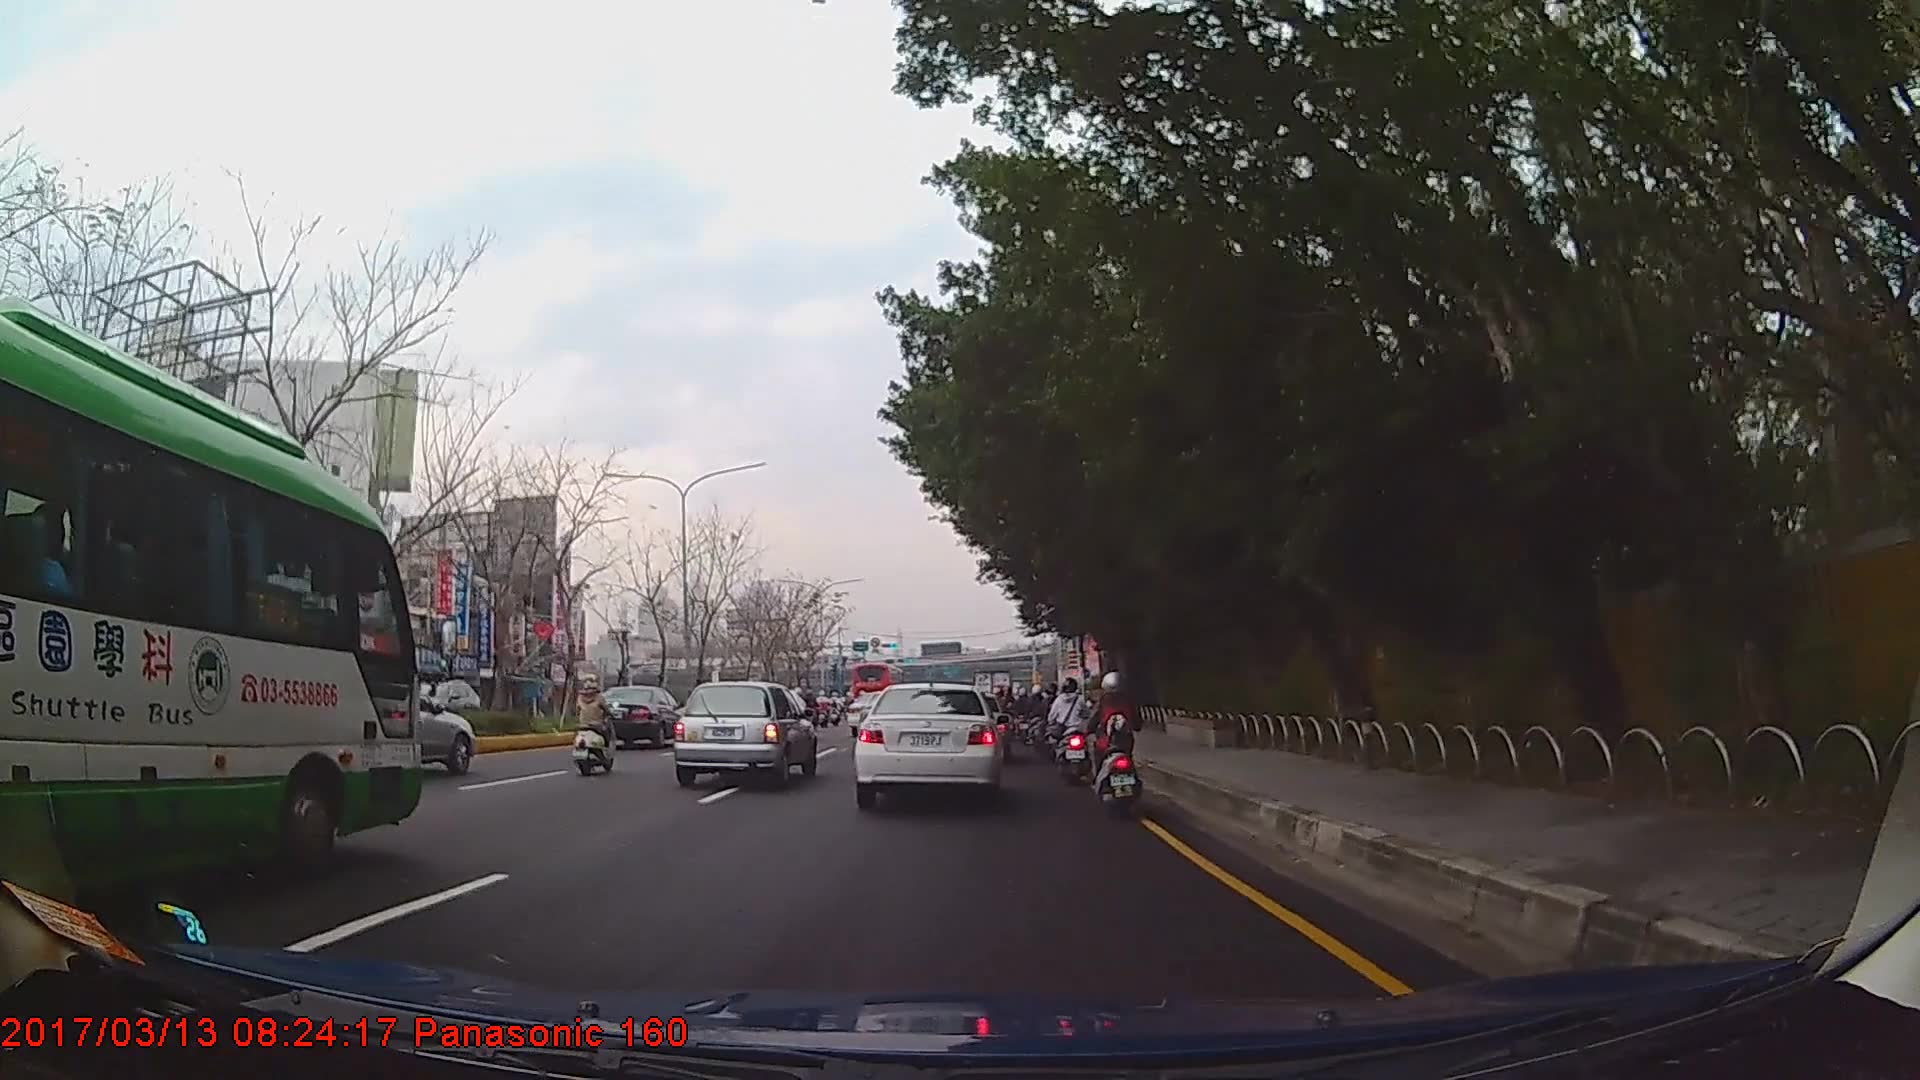rider: (1085, 667, 1148, 818), (1051, 676, 1095, 784), (575, 676, 617, 776), (1041, 683, 1064, 751)
vehicle: (0, 297, 423, 908), (850, 682, 1004, 807), (672, 679, 817, 788), (581, 682, 692, 748), (388, 675, 481, 734), (848, 659, 901, 710)
